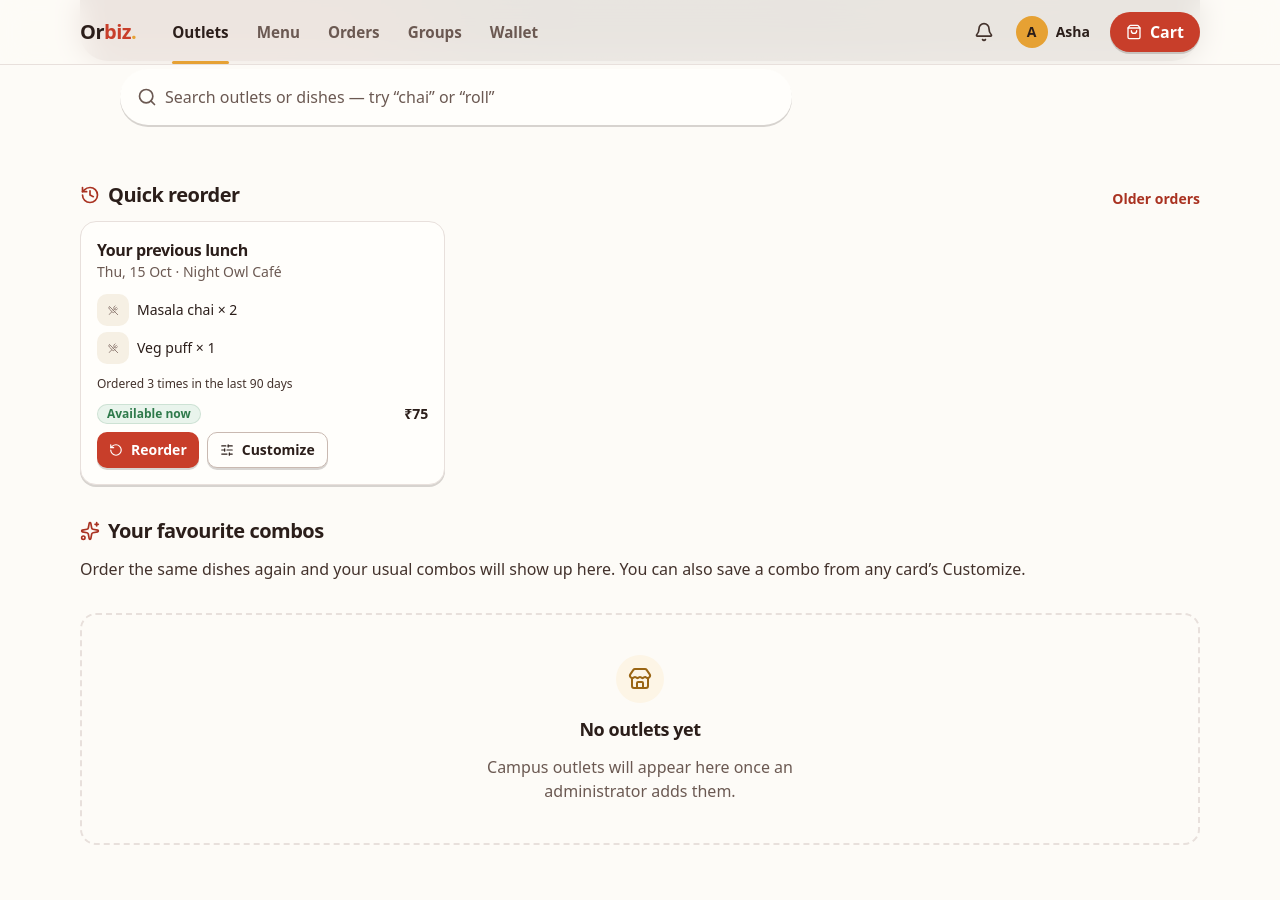
Test: Quick Reorder on the home page › shows a previous meal from real history and adds it in one tap when nothing changed
(page scrolled)
Expected: the heading "Your previous lunch" is shown, [97,239,248,261]
Expected: the text "Masala chai × 2" is shown, [137,300,237,320]
Click the button with aria-label "Reorder your previous lunch from Night Owl Café".
click(148, 450)  # box [97,432,199,468]
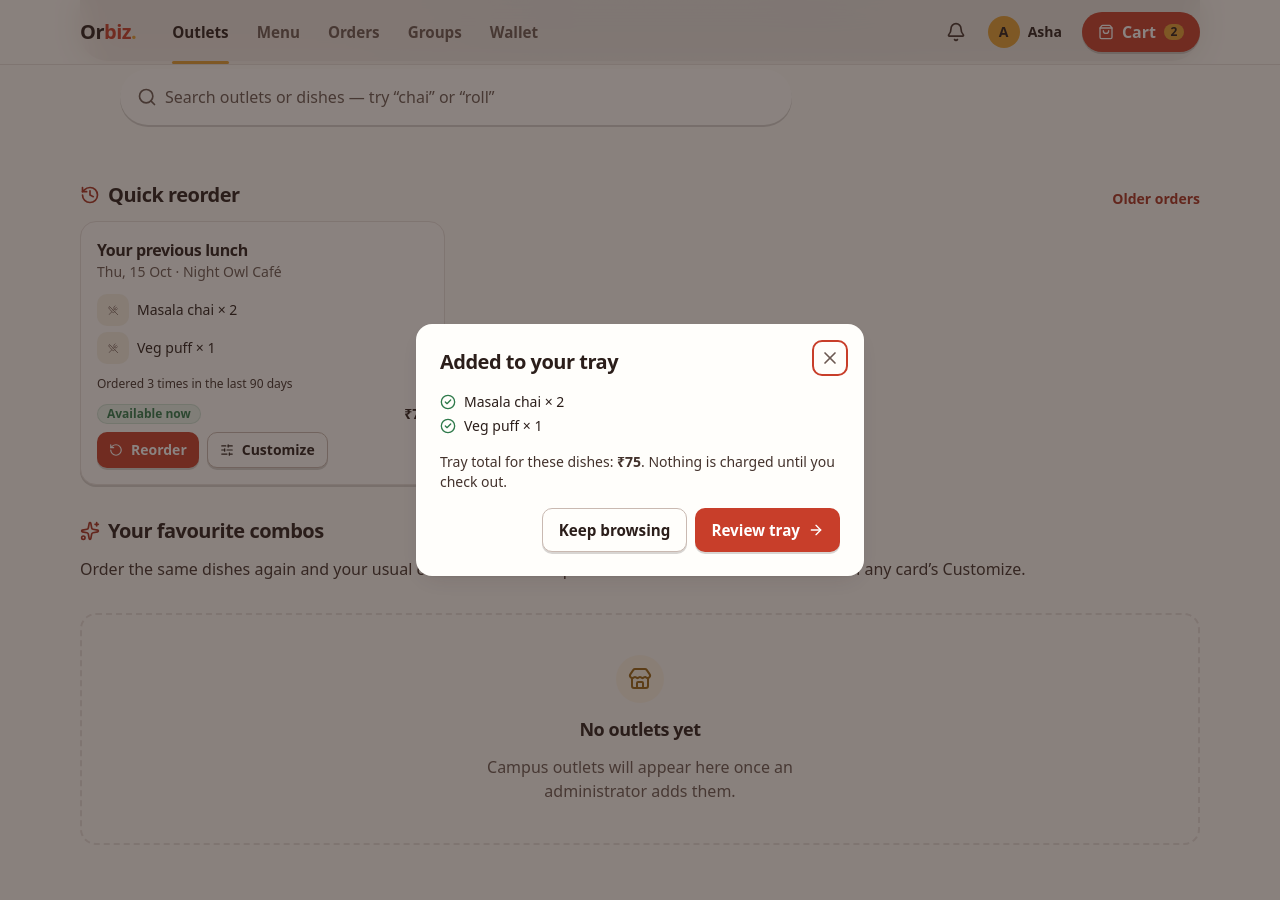
Result: the text "Nothing is charged until you check out" is shown at [440,452,835,491]
